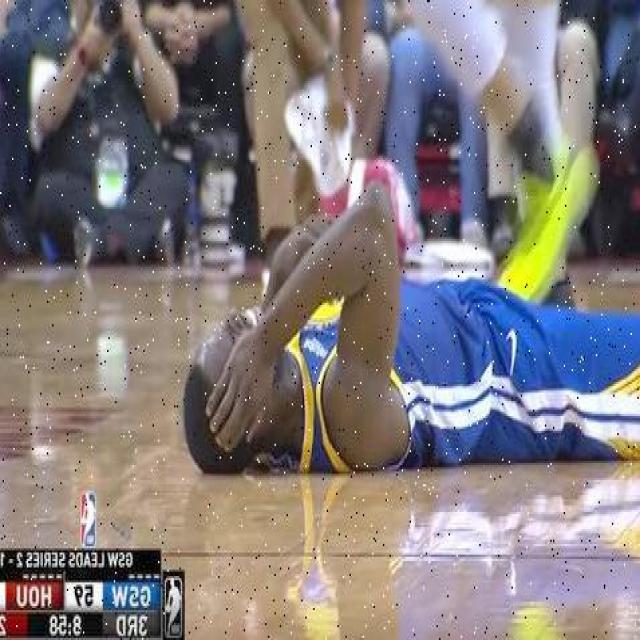fall: (182, 217, 638, 473)
